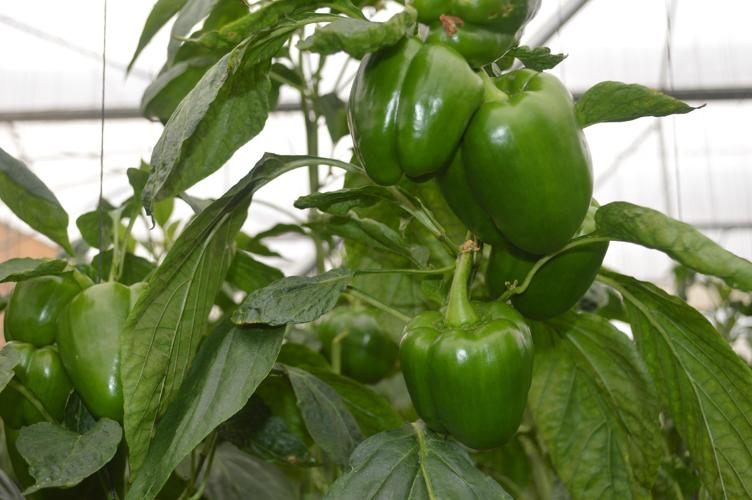BellPepper: (428, 69, 589, 254), (398, 299, 534, 449), (351, 35, 478, 188), (466, 197, 607, 318), (61, 283, 150, 422), (320, 309, 395, 393), (4, 347, 65, 425), (10, 277, 67, 343)
